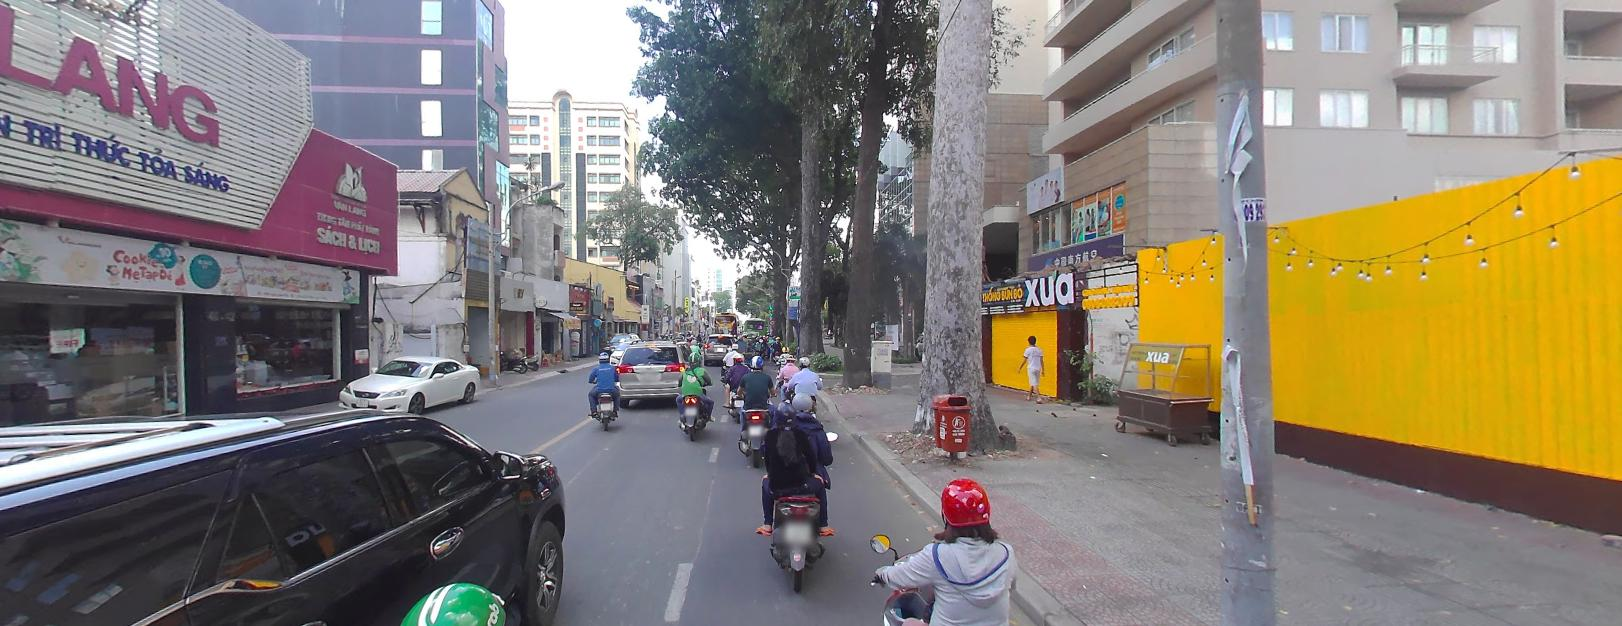Cam re: (768, 318, 774, 323)
